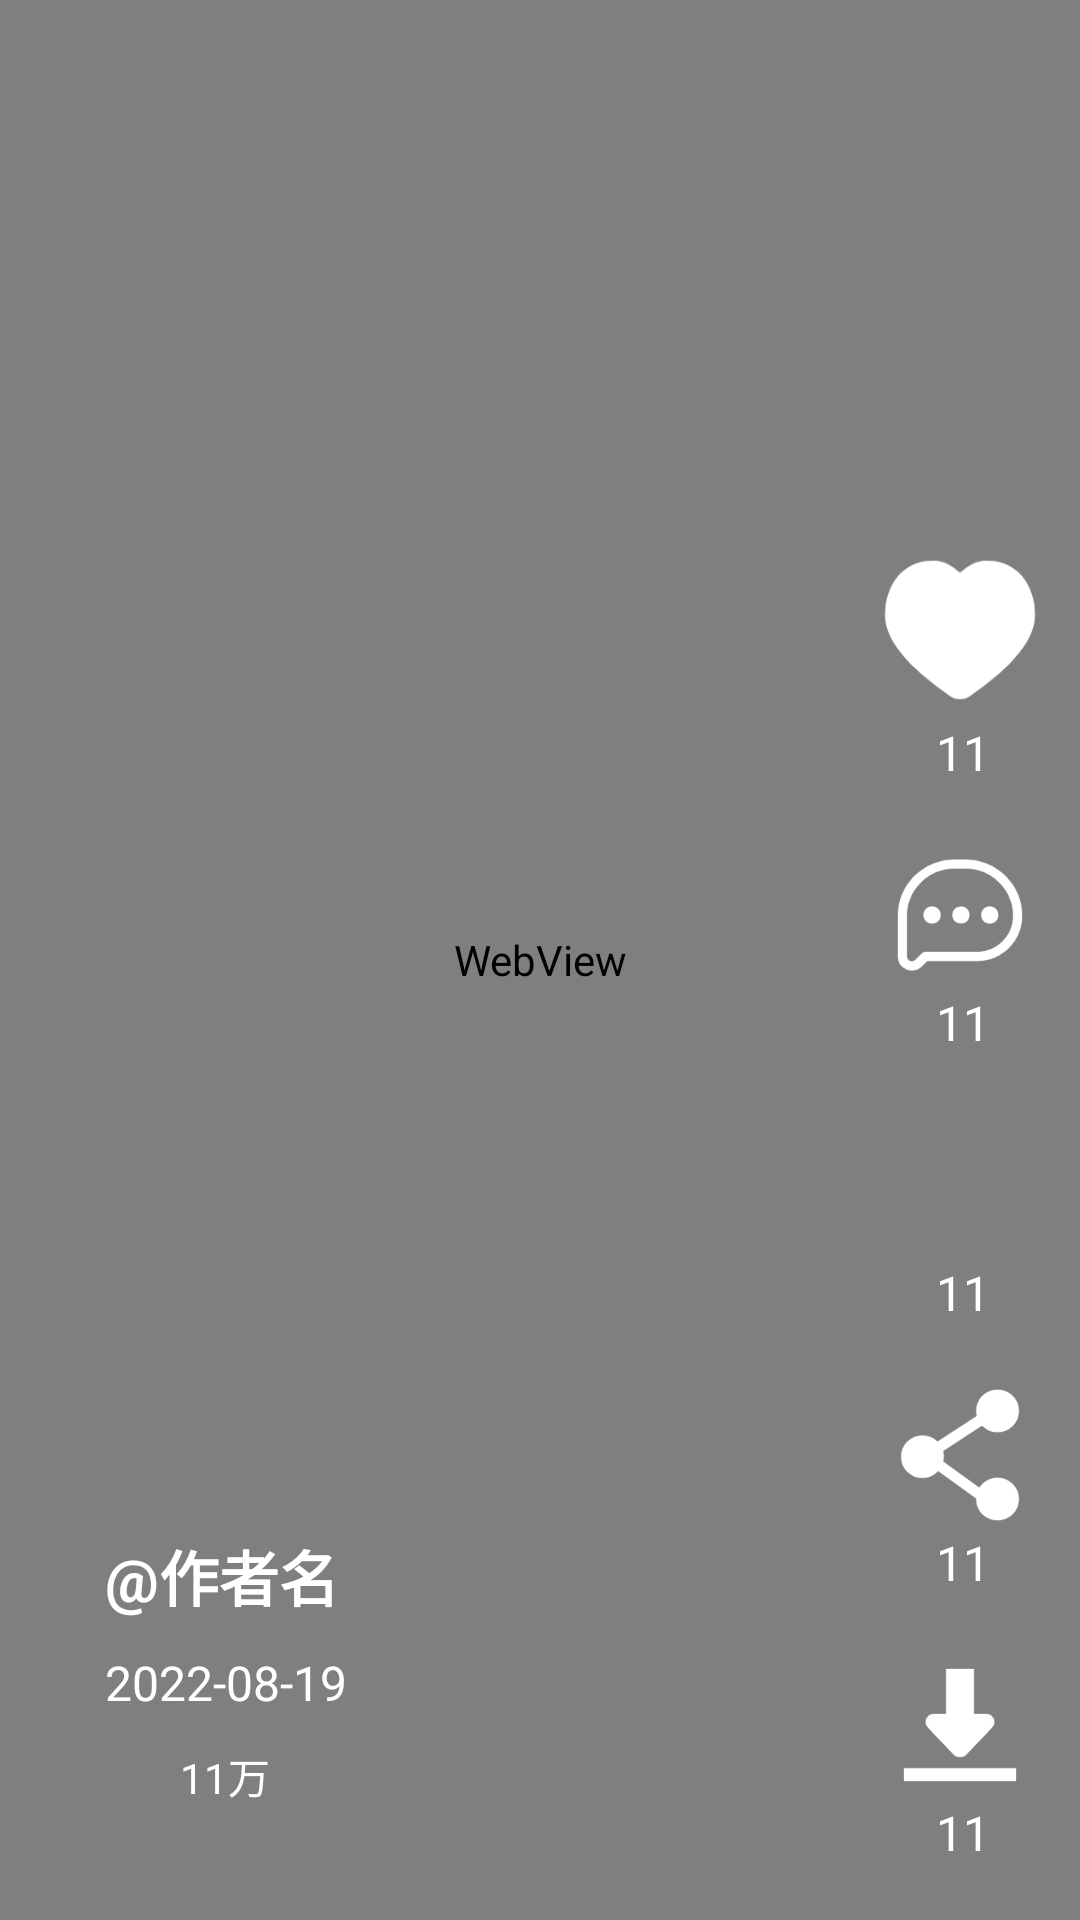

Icons on this 1080 × 1920 Android screen, each with the point to tap as (x=x, y=y):
comment: (x=960, y=915)
digg: (x=960, y=630)
download: (x=960, y=1725)
share: (x=960, y=1455)
